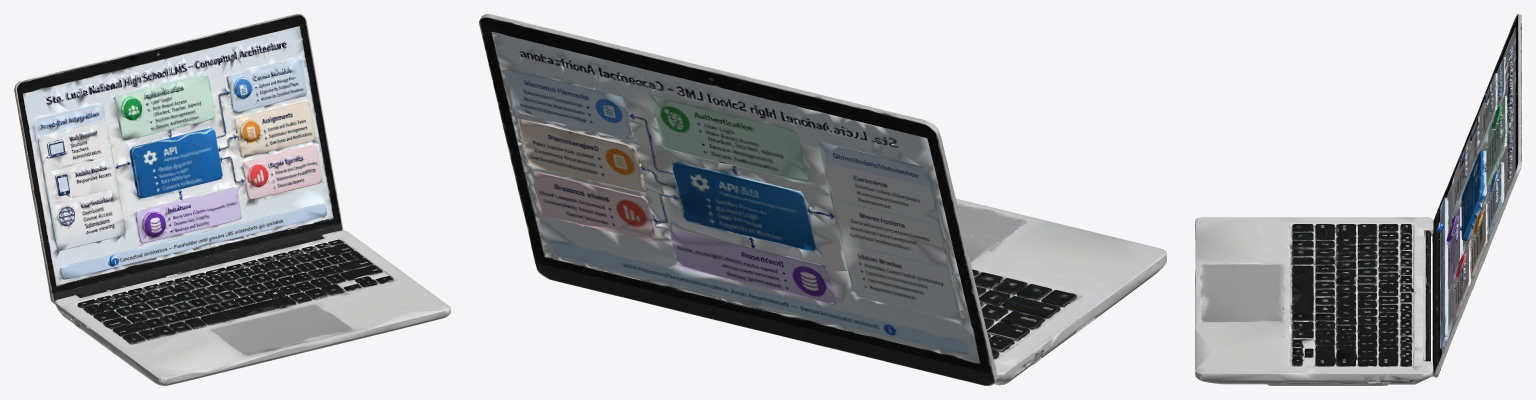
The model's file is project-laptop-90affb4f84.glb.
The picture shows the model from 3 angles, left to right: view 1: azimuth 30°, elevation 25°; view 2: azimuth 150°, elevation 25°; view 3: azimuth 270°, elevation 25°; orthographic projection. The views are drawn at different scales.
Parts seen in each view (by area): view 1: Interface, Application; view 2: Interface, Application; view 3: Application, Interface, Database.
Part boxes in pixels (box(x1,y1,x2,y2)): Interface: box(14, 14, 341, 292); Application: box(49, 221, 450, 385); Interface: box(479, 14, 995, 369); Application: box(534, 198, 1166, 385); Application: box(1195, 211, 1441, 382); Interface: box(1436, 14, 1521, 365); Database: box(1205, 231, 1424, 385).
Size of the model in its own units: 3.7 by 2.47 by 3.26.
2 materials, 1 textured.
